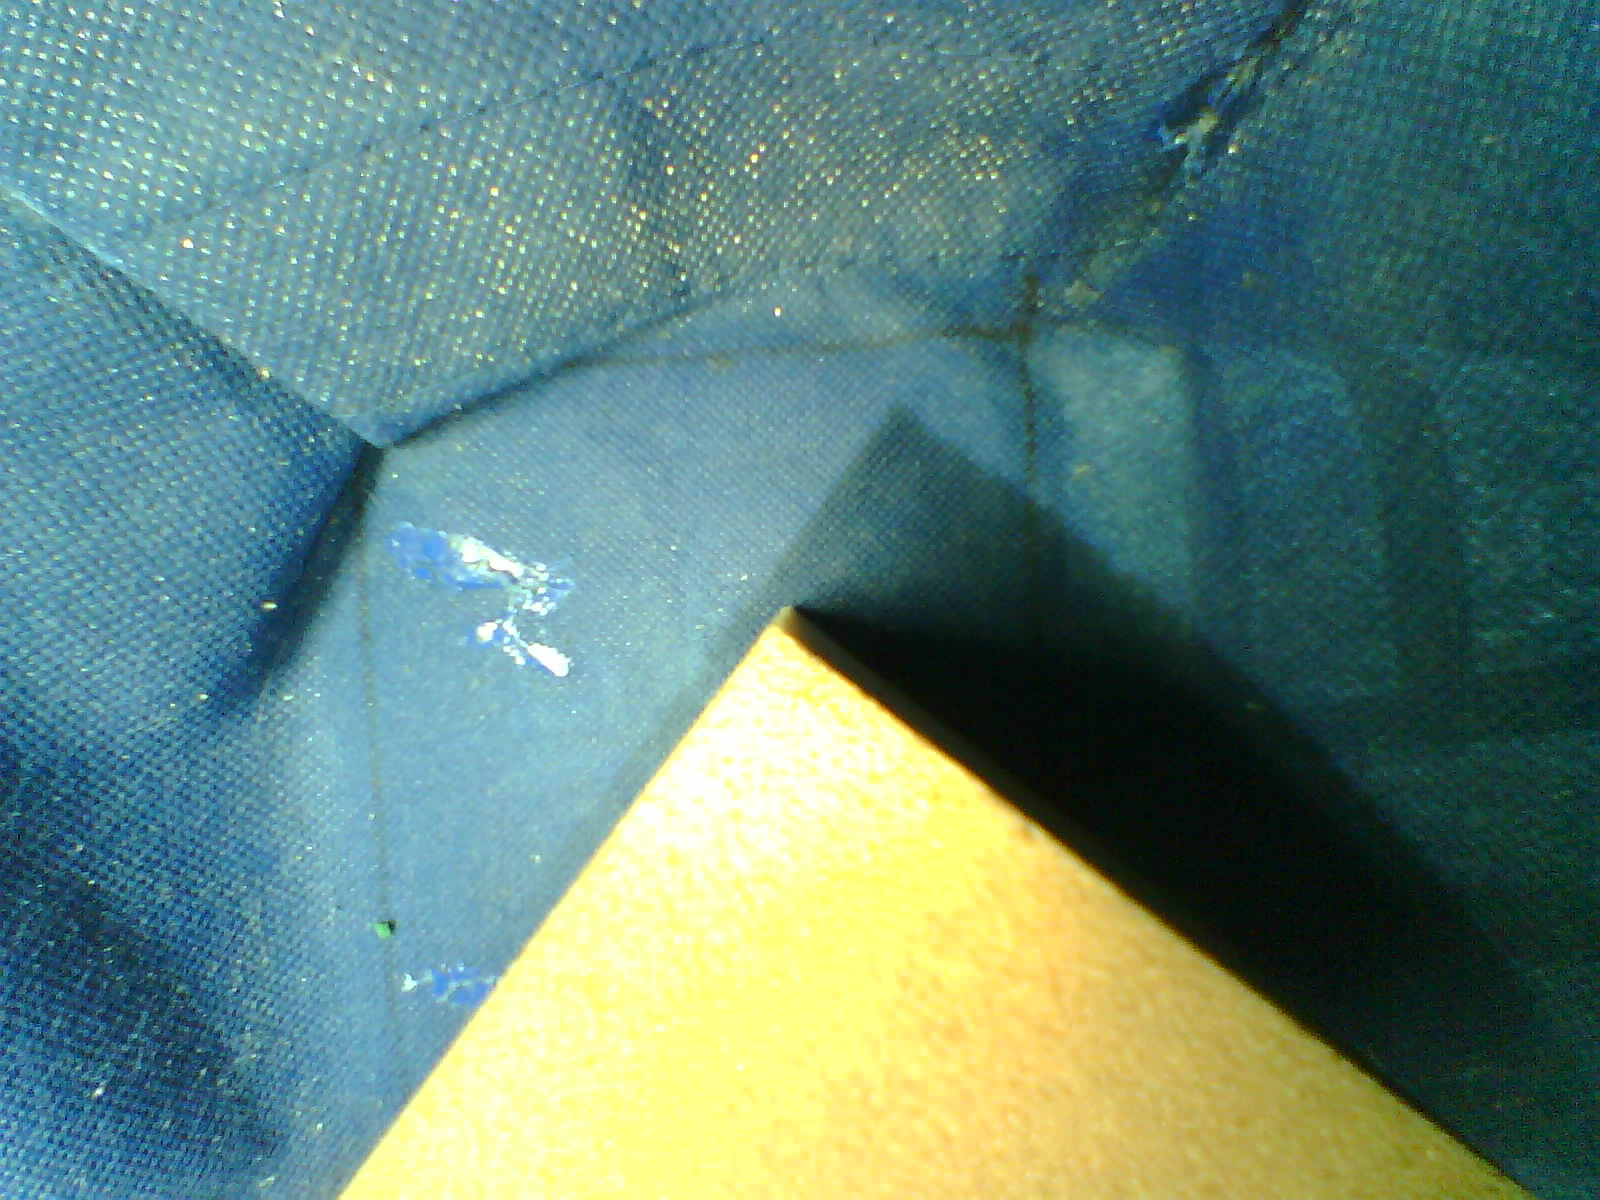cube-soft: (296, 563, 1600, 1200)
